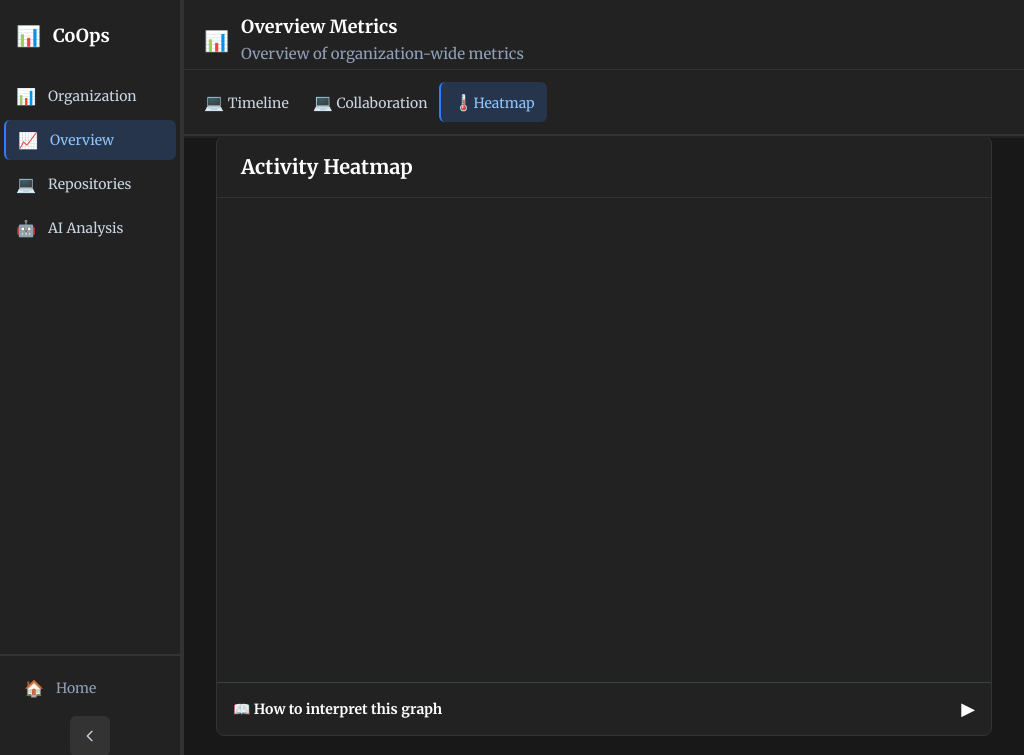
Test: HeatmapPage Component › Legenda do Heatmap › expande legenda ao clicar no botão
(page scrolled)
Step 1. Click the text "📖 How to interpret this graph" → {"x": 338, "y": 709}, box [233,699,442,719]
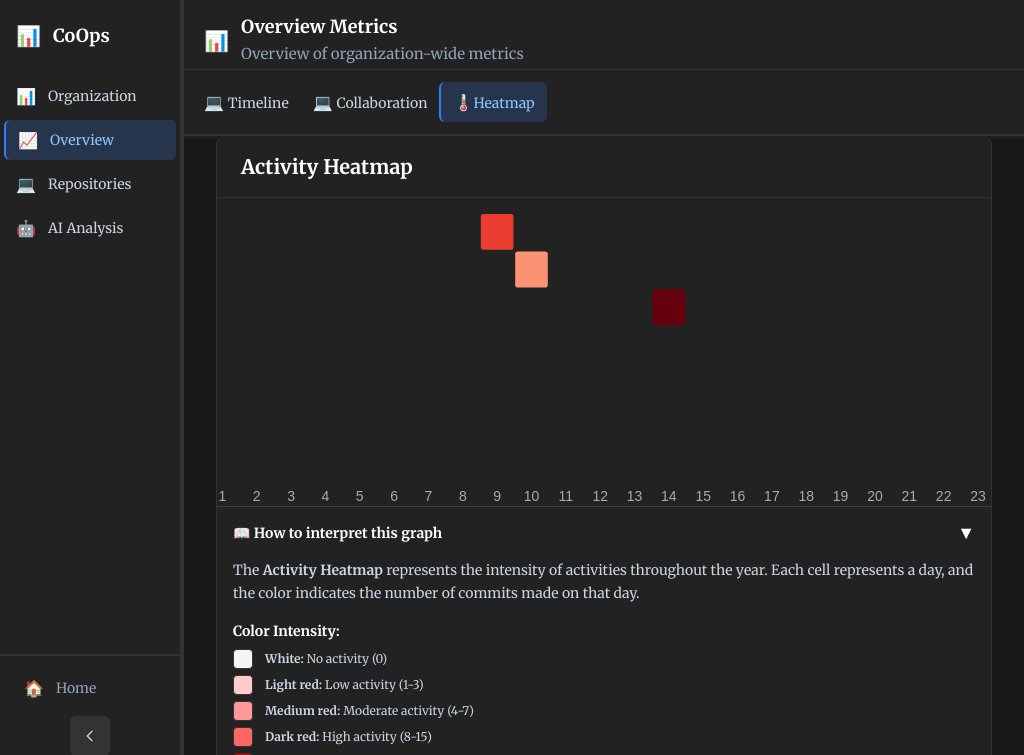
Now the text "represents the intensity" is shown, box [233,561,973,602]
